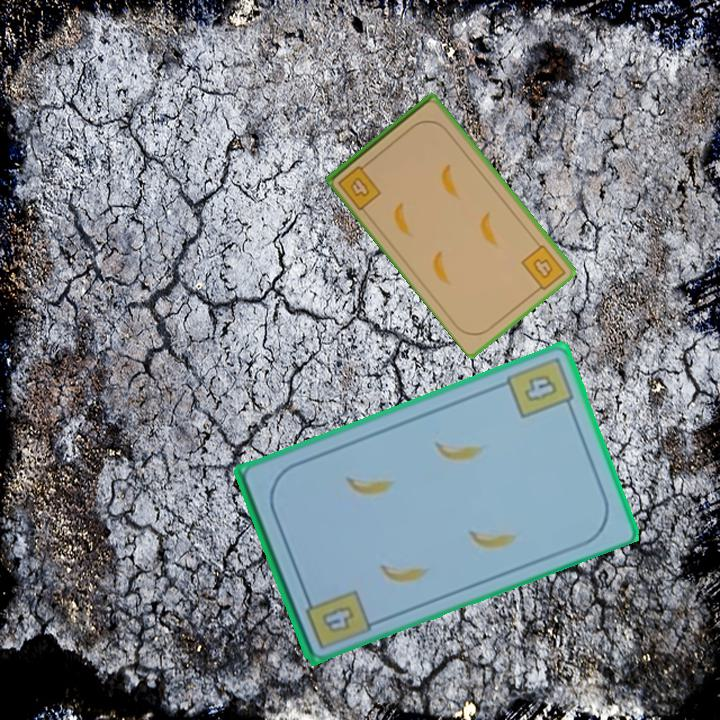4b: (502, 352, 577, 421), (518, 241, 568, 296), (334, 158, 384, 213), (318, 602, 358, 636)
